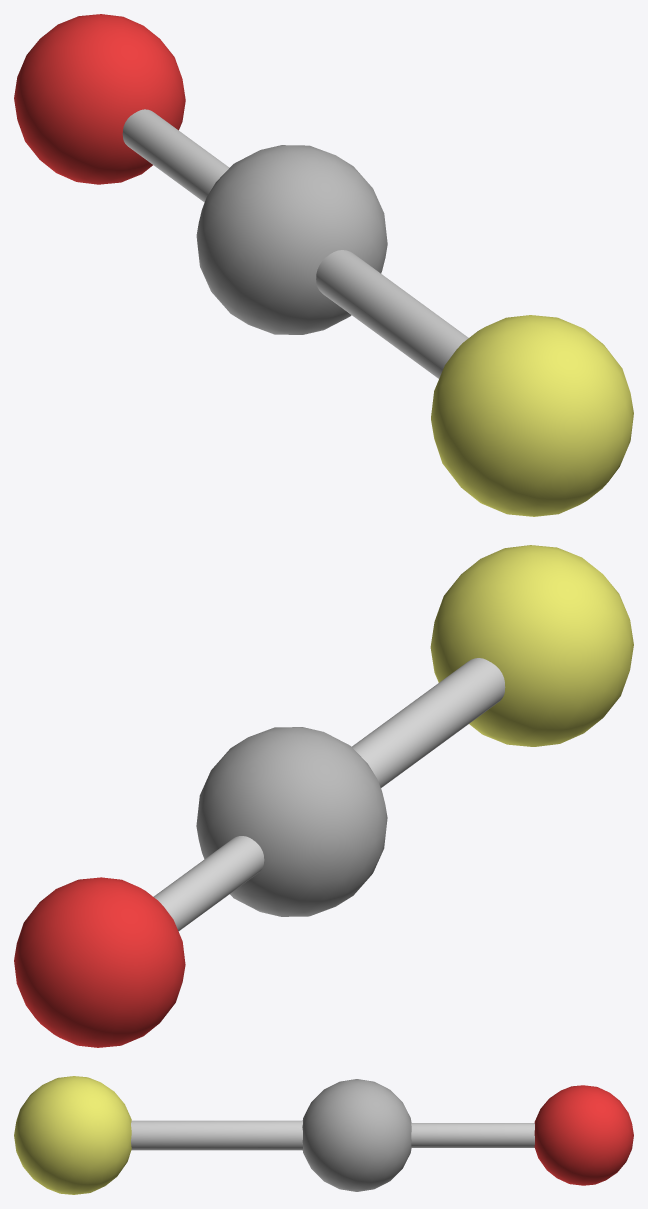
Rendered from OCS.fbx.
3 views of the same model, one above another, from view 1: azimuth 30°, elevation 25°; view 2: azimuth 150°, elevation 25°; view 3: azimuth 270°, elevation 25° (orthographic). The views are drawn at different scales.
Visible parts, largest first — view 1: Atom_3_S, Atom_0_C, Atom_5_O, Bond, Bond_001; view 2: Atom_3_S, Atom_0_C, Atom_5_O, Bond, Bond_001; view 3: Atom_3_S, Atom_0_C, Atom_5_O, Bond, Bond_001.
Boxes of the visible parts, bbox=[...] form: Atom_3_S: bbox=[431, 315, 633, 516]; Atom_0_C: bbox=[196, 145, 387, 334]; Atom_5_O: bbox=[14, 14, 185, 184]; Bond: bbox=[316, 250, 468, 378]; Bond_001: bbox=[122, 109, 229, 202]; Atom_3_S: bbox=[430, 545, 633, 746]; Atom_0_C: bbox=[196, 727, 387, 916]; Atom_5_O: bbox=[14, 877, 185, 1047]; Bond: bbox=[352, 658, 505, 787]; Bond_001: bbox=[153, 836, 264, 931]; Atom_3_S: bbox=[14, 1076, 131, 1194]; Atom_0_C: bbox=[302, 1079, 411, 1191]; Atom_5_O: bbox=[534, 1085, 633, 1185]; Bond: bbox=[131, 1120, 302, 1150]; Bond_001: bbox=[411, 1123, 534, 1147].
Size of the model in its own units: 0.72 by 0.72 by 3.72.
